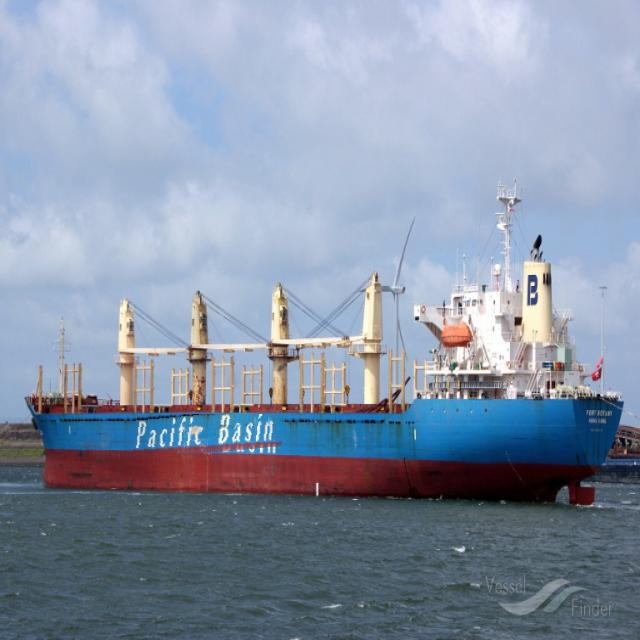OCR: (131, 414, 287, 460)
